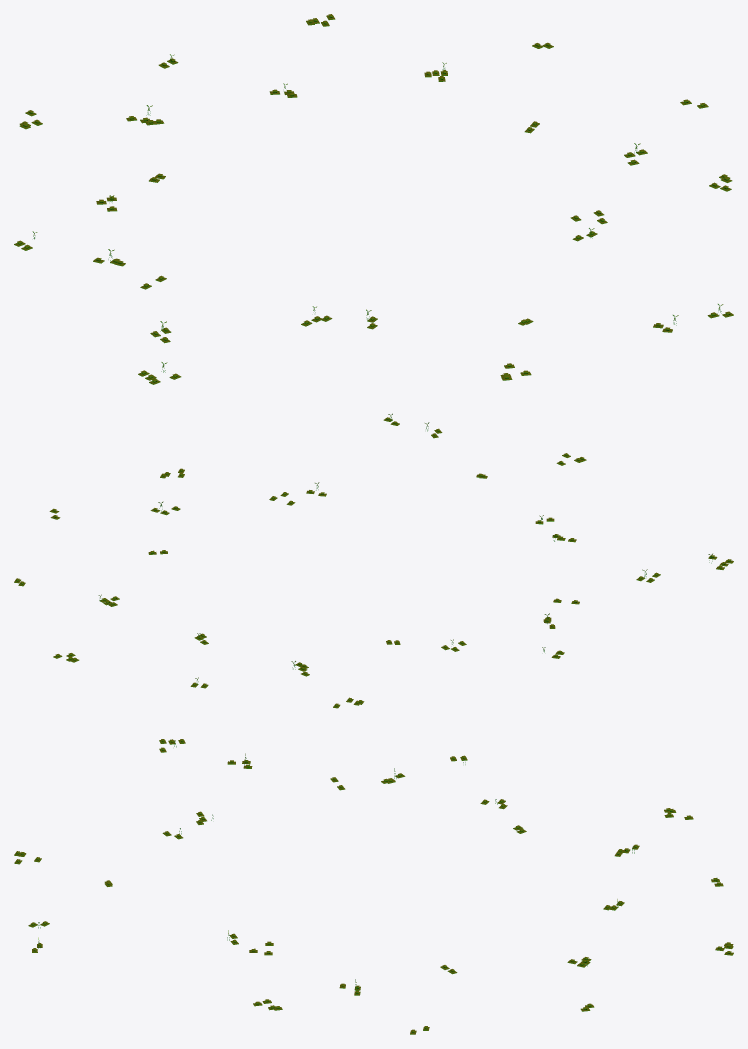
Rendered from hm_far_flotilla.glb.
3 renders of one model, top to bottom at view 1: azimuth 30°, elevation 25°; view 2: azimuth 150°, elevation 25°; view 3: azimuth 270°, elevation 25°, orthographic. The views are drawn at different scales.
Visible parts, largest first — view 1: hm_far_flotilla; view 2: hm_far_flotilla; view 3: hm_far_flotilla.
Part boxes in pixels (x1,y1,x2,y2): hm_far_flotilla: [14, 14, 733, 384]; hm_far_flotilla: [14, 413, 733, 708]; hm_far_flotilla: [14, 739, 733, 1034].
Size of what is drawn, in the model's own units: 834 by 15.08 by 861.
